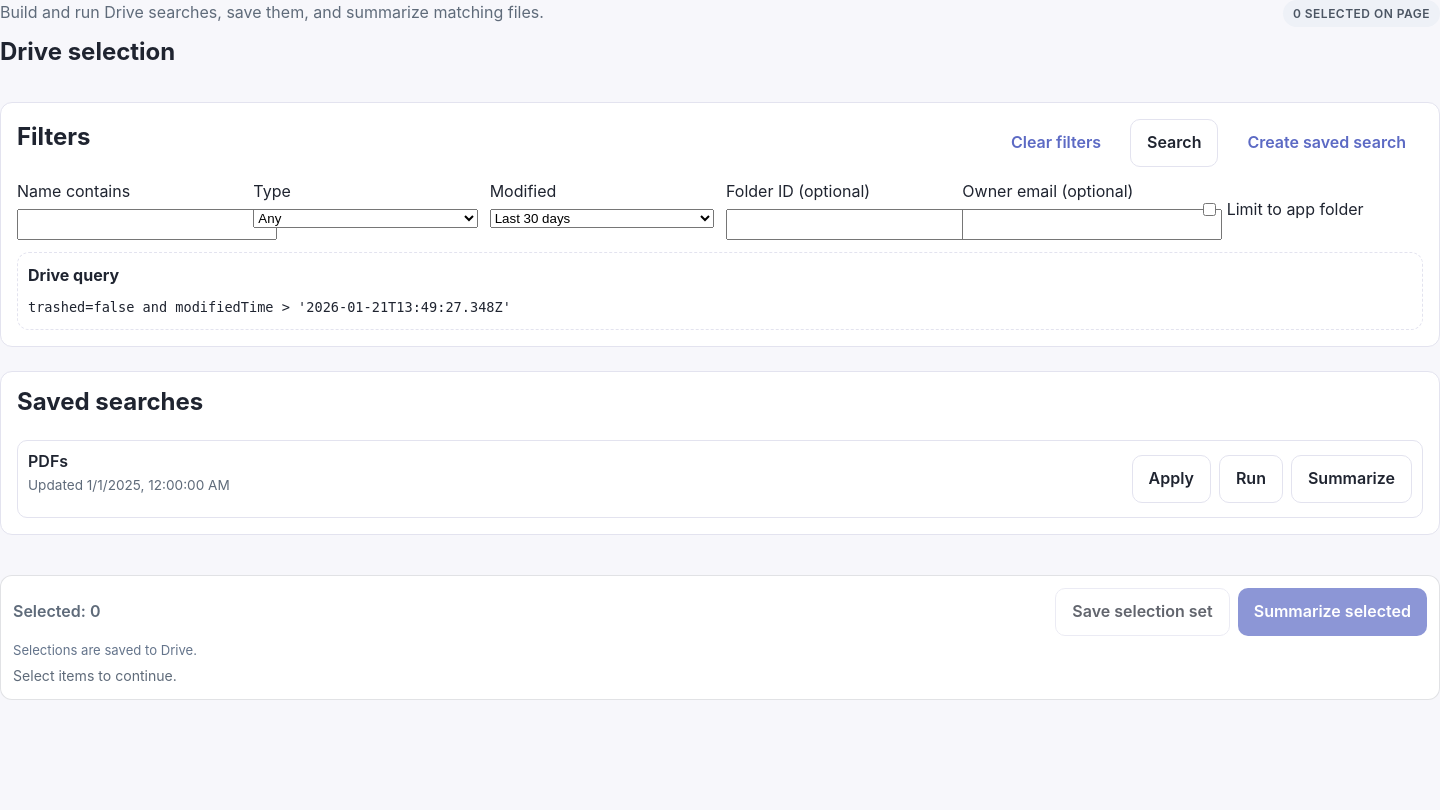
Test: DriveSelectClient › runs saved drive search when Run is clicked
The width and height of the screenshot is (1440, 810).
Check: the text "PDFs" is shown, box left=28, top=451, right=68, bottom=471
Click the button "Run": point(1251, 479) left=1219, top=455, right=1283, bottom=503
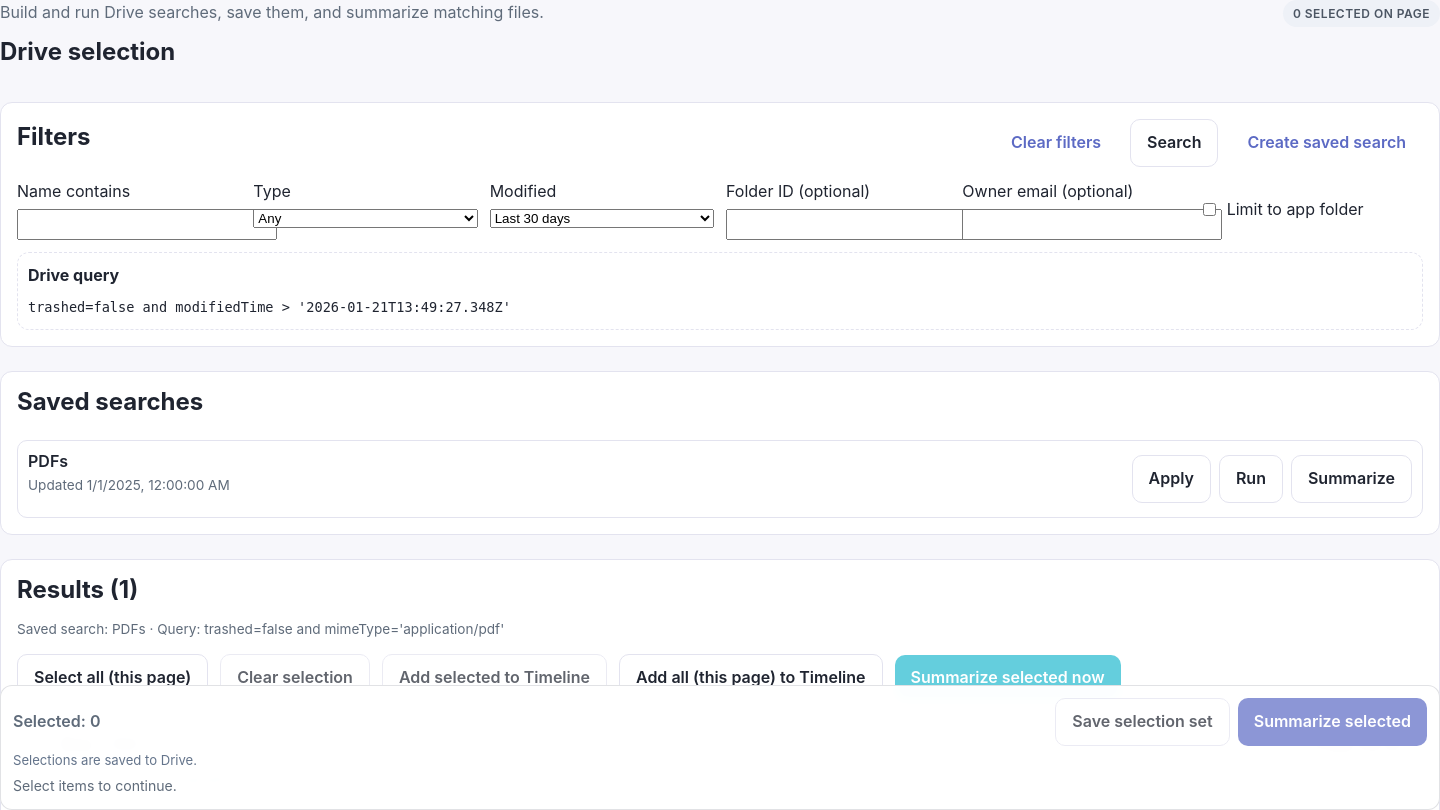
Check: the text "Saved search: PDFs · Query:" is shown, box left=17, top=622, right=504, bottom=638
